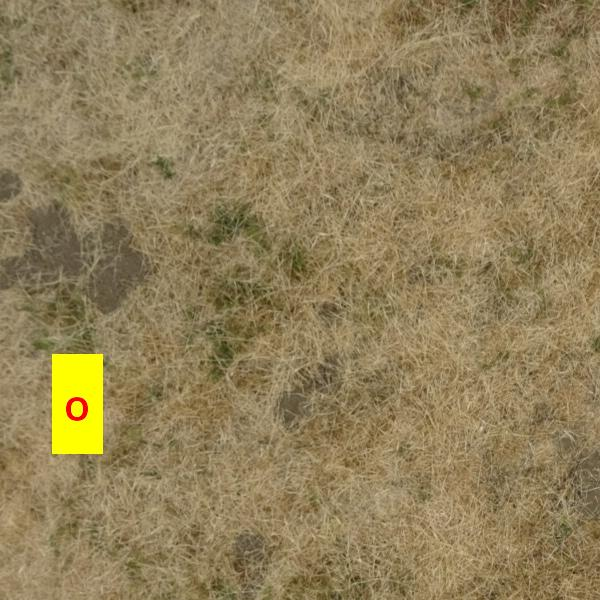Rectangle: (27, 354, 127, 454)
